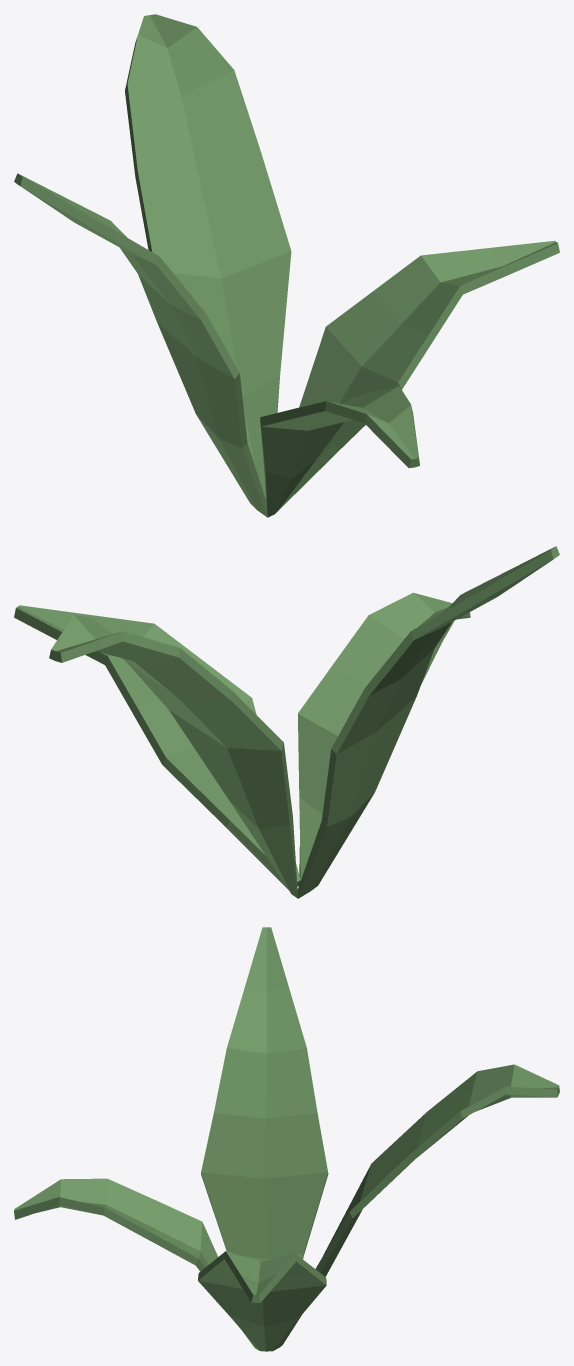
The model's file is 3DObj_Grass_V2.fbx.
3 views of the same model, one above another, from view 1: azimuth 30°, elevation 25°; view 2: azimuth 150°, elevation 25°; view 3: azimuth 270°, elevation 25° (orthographic). The views are drawn at different scales.
Parts seen in each view (by area): view 1: 3DObj_Grass_V2; view 2: 3DObj_Grass_V2; view 3: 3DObj_Grass_V2.
Boxes of the visible parts, x1,y1,x2,y2 form: 3DObj_Grass_V2: (14,14,559,517); 3DObj_Grass_V2: (14,546,559,898); 3DObj_Grass_V2: (14,927,559,1351).
Bounding box in the file's own units: 43.76 × 30.93 × 47.42.
